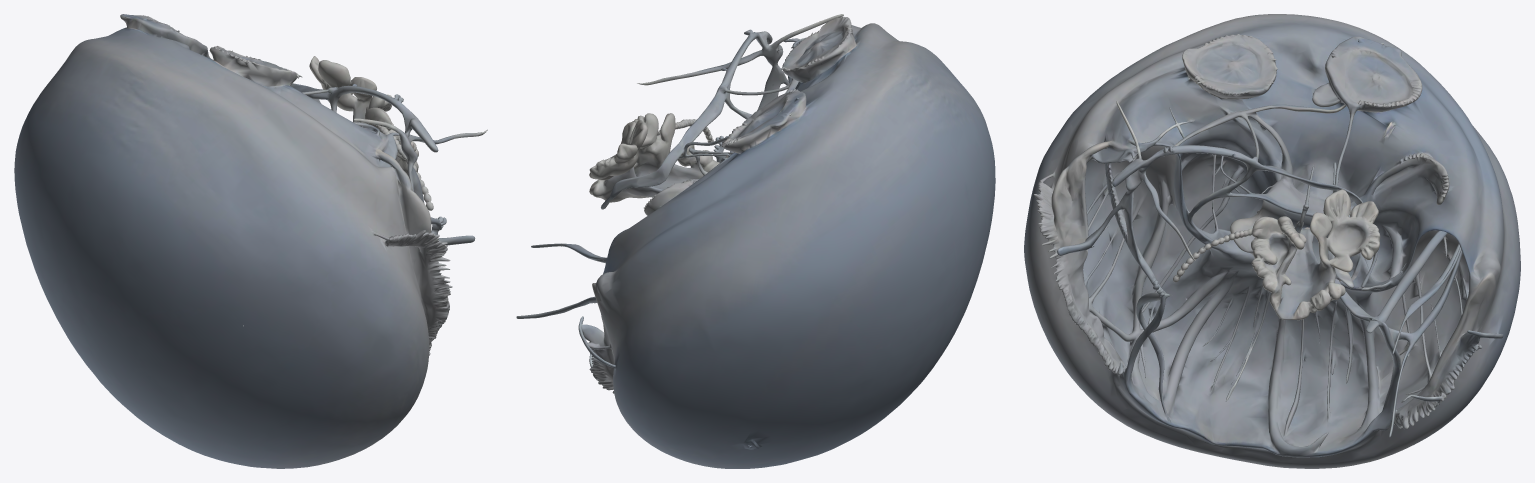
File: jelly.glb
3 views of the same model, side by side, from view 1: azimuth 30°, elevation 25°; view 2: azimuth 150°, elevation 25°; view 3: azimuth 270°, elevation 25° (orthographic). The views are drawn at different scales.
Visible parts, largest first — view 1: tripo_node_384c0a75-a405-4740-a80d-d63463b589c7; view 2: tripo_node_384c0a75-a405-4740-a80d-d63463b589c7; view 3: tripo_node_384c0a75-a405-4740-a80d-d63463b589c7.
Part boxes in pixels (x1,y1,x2,y2): tripo_node_384c0a75-a405-4740-a80d-d63463b589c7: [14, 14, 487, 468]; tripo_node_384c0a75-a405-4740-a80d-d63463b589c7: [516, 14, 995, 468]; tripo_node_384c0a75-a405-4740-a80d-d63463b589c7: [1024, 14, 1520, 468].
Bounding box in the file's own units: 0.8749 × 0.8776 × 0.9801.
1 material, 1 textured.
